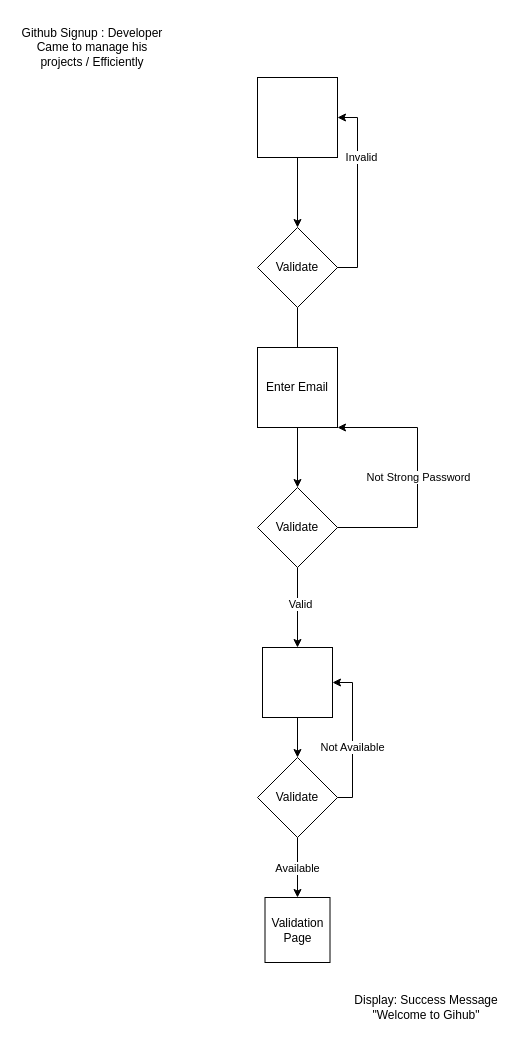
Image size: 518x1054. Some labels were removed from this diagram. Here are the shapes that lost their labels. From the top down, the box of each, then its label:
(256, 76, 338, 158): Enter your Email
(262, 646, 332, 718): Enter Username
